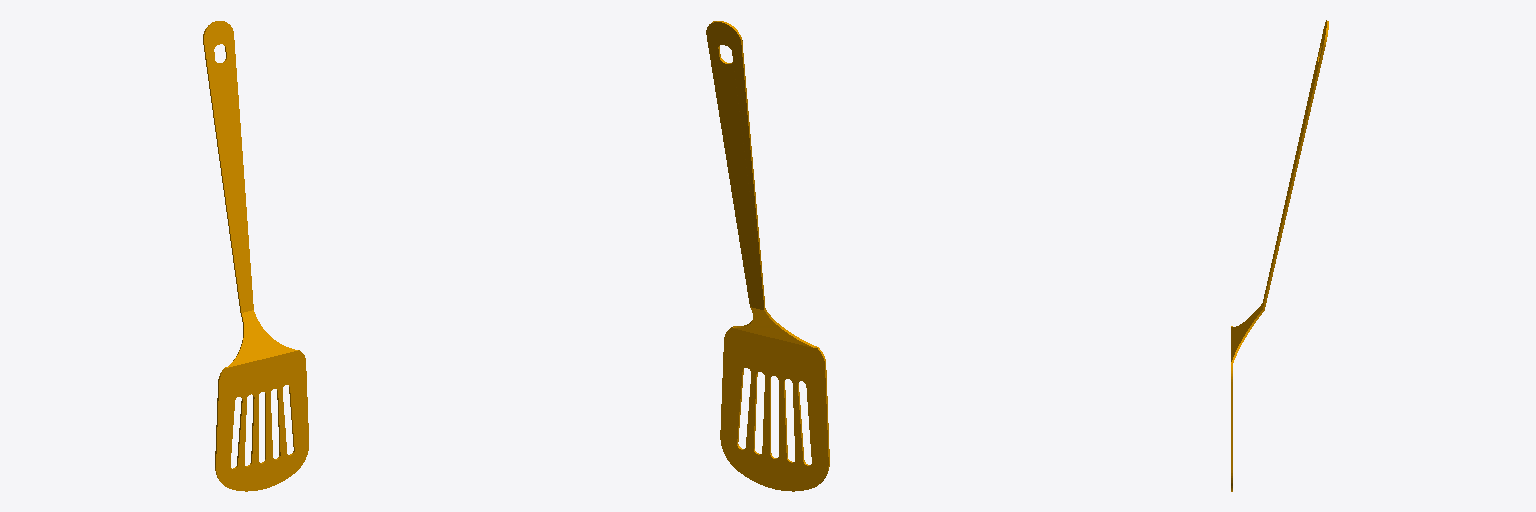
robot.urdf — spatula.urdf:
<?xml version="0.0" ?>
<robot name="spatula.urdf">
  <link name="spatula">
    <visual>
      <origin rpy="0 0 0" xyz="0 0 0.0"/>
      <geometry>
        <mesh filename="model.obj"/>
      </geometry>
      <material name="blue">
      </material>
    </visual>
      <inertial>
         <origin rpy="0 0 0" xyz="0 -0.4 0"/>
         <mass value="0.5"/>
         <inertia ixx="1" ixy="0" ixz="0" iyy="1" iyz="0" izz="1"/>
      </inertial>
    <collision>
      <origin rpy="0 0 0" xyz="0 0 0.0"/>
      <geometry>
  	<mesh filename="model_v.obj"/>
      </geometry>
    </collision>
  </link>
</robot>

--- Render facts (derived) ---
The picture shows the robot from 3 angles, left to right: view 1: azimuth 30°, elevation 25°; view 2: azimuth 150°, elevation 25°; view 3: azimuth 270°, elevation 25°; orthographic projection.
Model spatula.urdf with 1 links and 0 joints (none), rooted at spatula, posed every joint at zero.
Links seen in each view (by area): view 1: spatula; view 2: spatula; view 3: spatula.
Boxes of the visible links, bbox=[...] form: spatula: bbox=[203, 21, 308, 491]; spatula: bbox=[706, 21, 829, 491]; spatula: bbox=[1231, 20, 1328, 491].
Bounding box of the posed robot: 0.2149 × 0.1853 × 0.9589 m (x, y, z).
1 mesh visuals loaded from 1 distinct referenced files (1 OBJ).